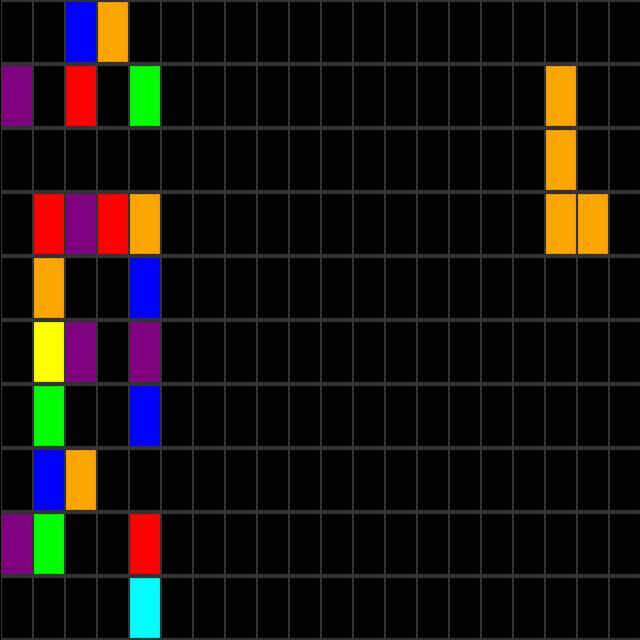Tetrimino_I: (546, 66, 608, 256)
